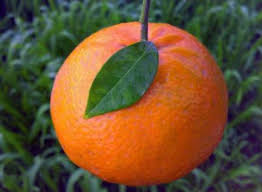orange: (48, 18, 231, 188)
